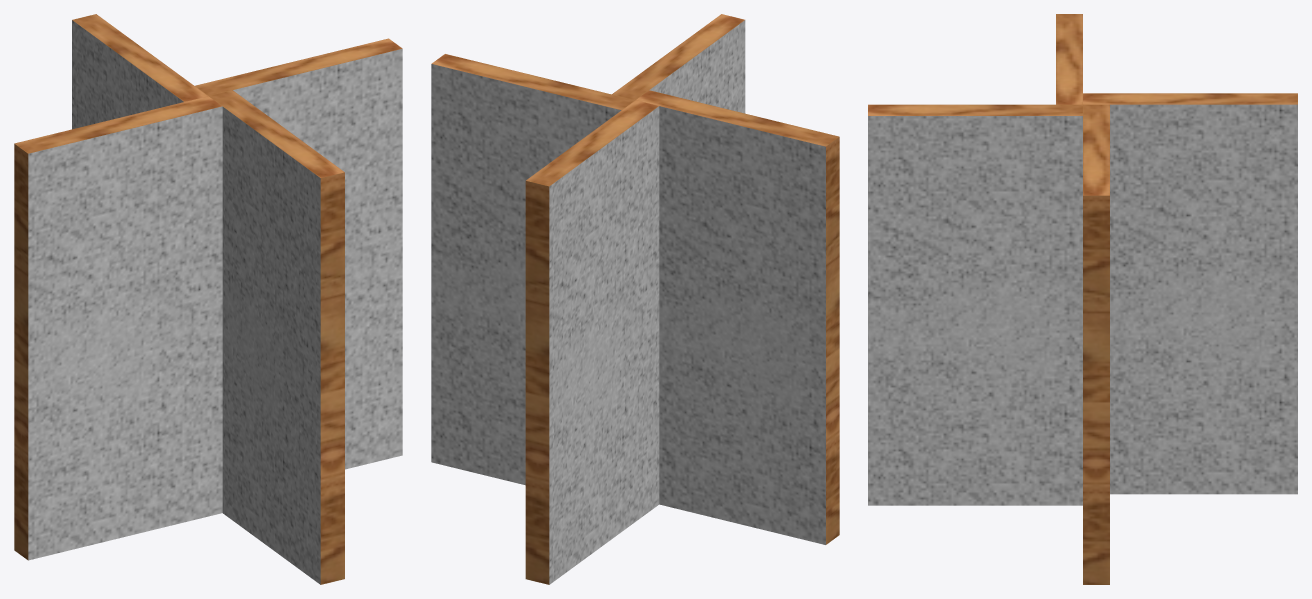
Rendered from townDungeonInt2.gltf.
The picture shows the model from 3 angles, left to right: view 1: azimuth 30°, elevation 25°; view 2: azimuth 150°, elevation 25°; view 3: azimuth 270°, elevation 25°; orthographic projection. The views are drawn at different scales.
Parts seen in each view (by area): view 1: townDungeonInt2; view 2: townDungeonInt2; view 3: townDungeonInt2.
Part boxes in pixels (box(x1,y1,x2,y2)): townDungeonInt2: box(14, 14, 402, 584); townDungeonInt2: box(431, 14, 839, 584); townDungeonInt2: box(868, 14, 1297, 584).
Bounding box in the file's own units: 4 × 4 × 4.
Materials: 3 (3 with a texture image).
